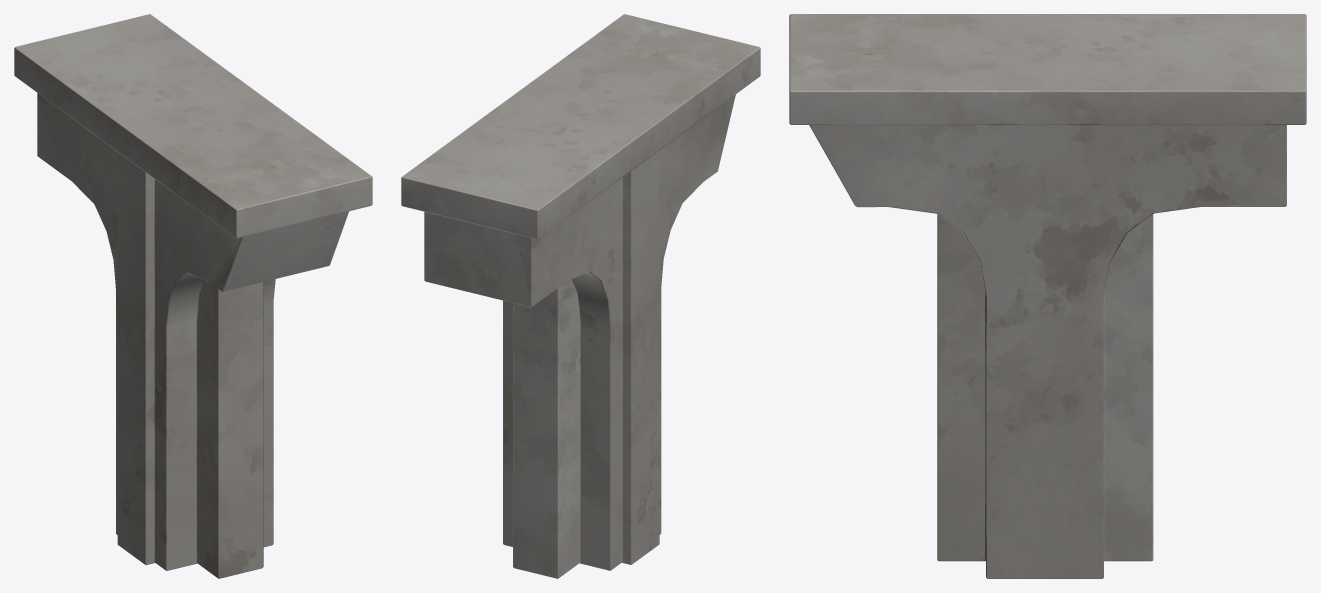
The model's file is SM_Pillar_Bridge_01.fbx.
The picture shows the model from 3 angles, left to right: view 1: azimuth 30°, elevation 25°; view 2: azimuth 150°, elevation 25°; view 3: azimuth 270°, elevation 25°; orthographic projection. The views are drawn at different scales.
Visible parts, largest first — view 1: SM_Pillar_Bridge_01_LOD0; view 2: SM_Pillar_Bridge_01_LOD0; view 3: SM_Pillar_Bridge_01_LOD0.
Part boxes in pixels (x1=…): SM_Pillar_Bridge_01_LOD0: x1=14, y1=14, x2=372, y2=578; SM_Pillar_Bridge_01_LOD0: x1=401, y1=14, x2=760, y2=578; SM_Pillar_Bridge_01_LOD0: x1=789, y1=14, x2=1306, y2=578.
Bounding box in the file's own units: 61.38 × 173 × 183.
1 material, 1 textured.
